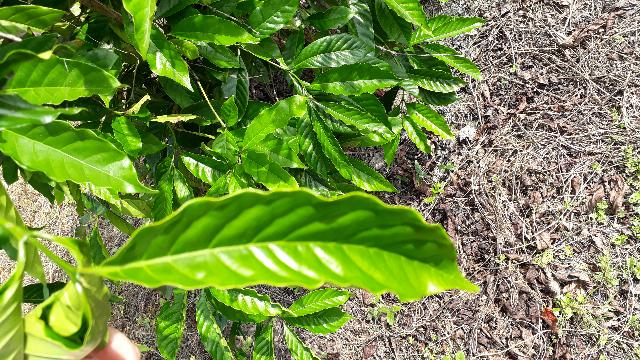healthy: (96, 186, 487, 302)
